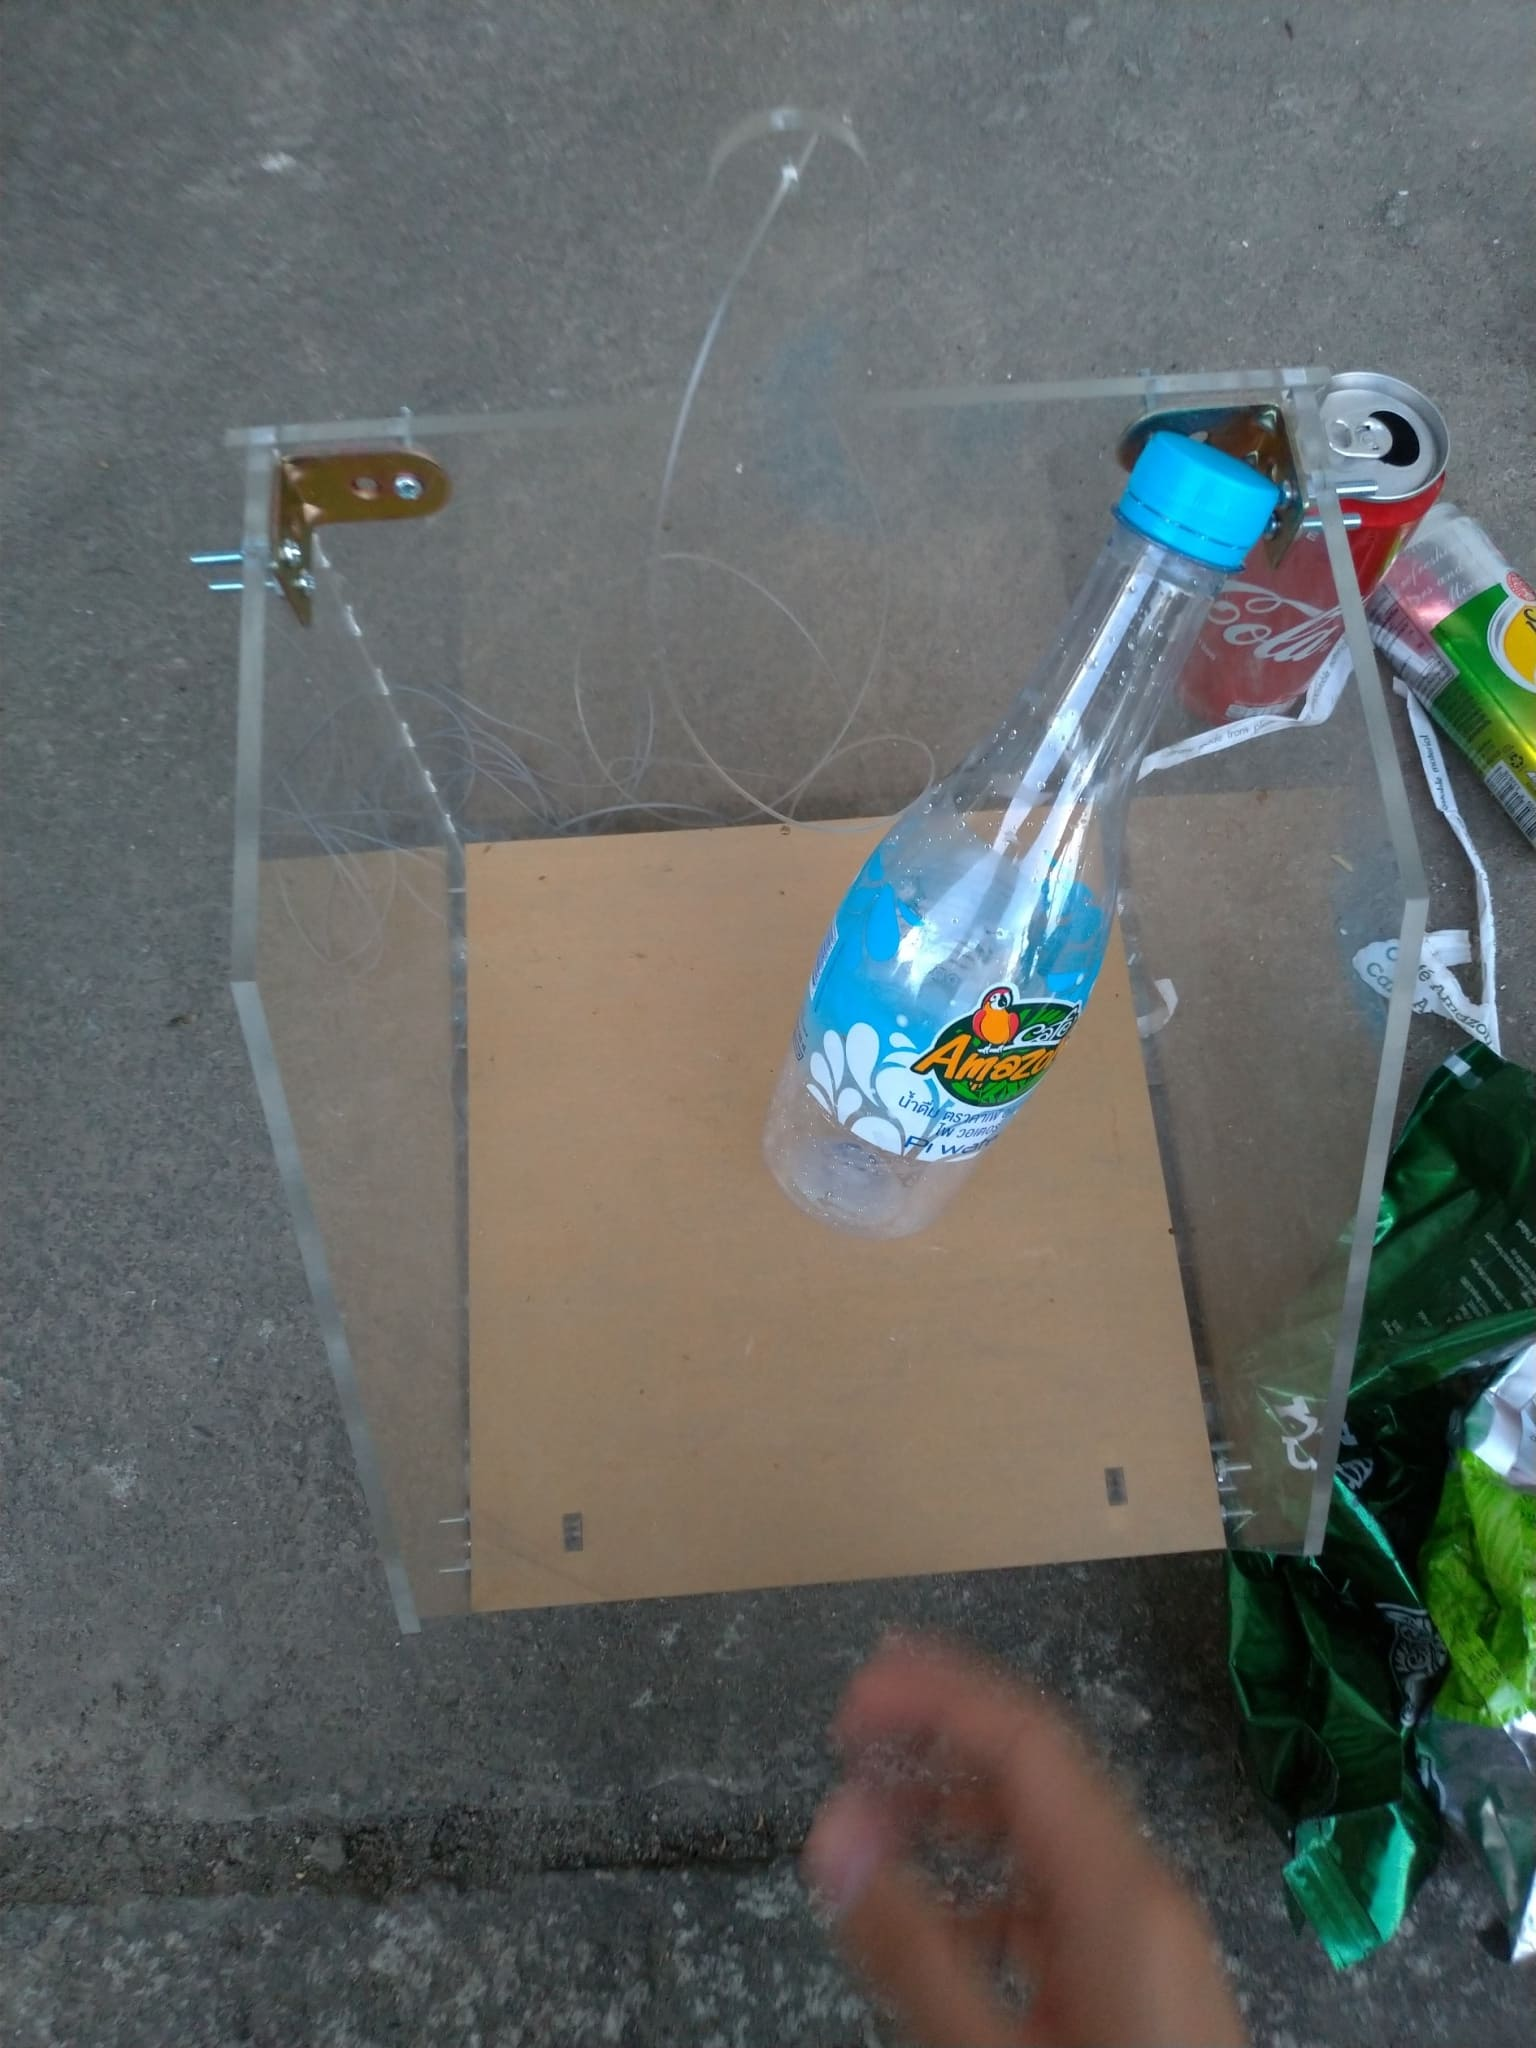AlCan: (1196, 374, 1447, 726), (1376, 506, 1536, 843)
Others: (1204, 1045, 1536, 1967), (1412, 1335, 1536, 1935), (1363, 687, 1521, 1061), (1137, 626, 1367, 780)
PlasticBottle: (753, 429, 1263, 1255)
